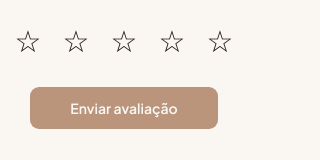
Test: RatingForm › [P1-019] selecting a star enables the submit button
Click the button named "4 estrelas" at (172,40), box [150, 18, 194, 62]
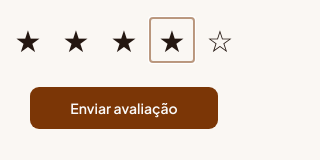
expect the button "Enviar avaliação" is enabled: met, box [29, 86, 219, 130]
